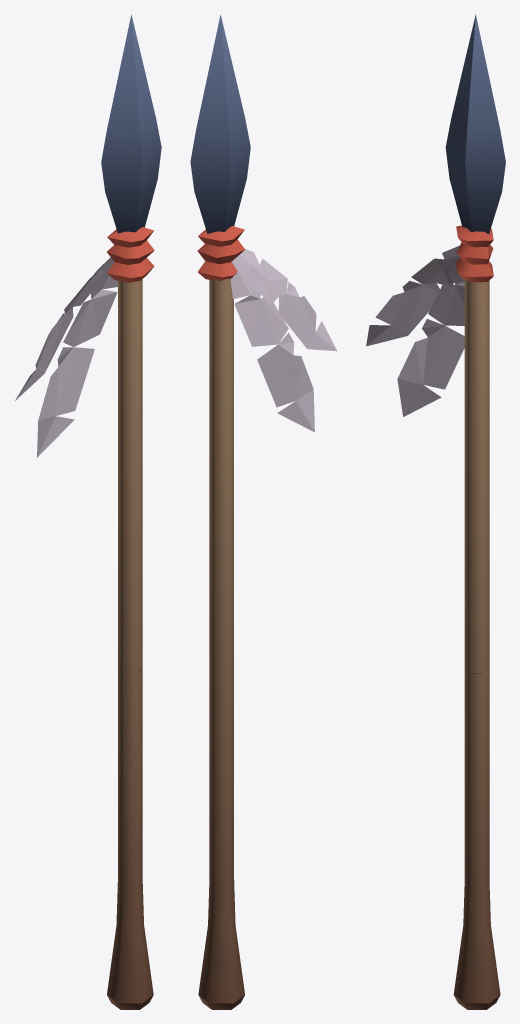
The model's file is Spear_Stone.fbx.
3 renders of one model, left to right at view 1: azimuth 30°, elevation 25°; view 2: azimuth 210°, elevation 25°; view 3: azimuth 330°, elevation 25°, orthographic.
Visible parts, largest first — view 1: Spear_Stone.001, Spear_Stone; view 2: Spear_Stone.001, Spear_Stone; view 3: Spear_Stone.001, Spear_Stone.
Boxes of the visible parts, <box> form: Spear_Stone.001: <box>15,227,154,1009</box>; Spear_Stone: <box>101,14,161,233</box>; Spear_Stone.001: <box>197,226,336,1009</box>; Spear_Stone: <box>190,15,250,233</box>; Spear_Stone.001: <box>366,225,500,1009</box>; Spear_Stone: <box>445,14,505,233</box>.
Bounding box in the file's own units: 42.15 × 278 × 12.95.
